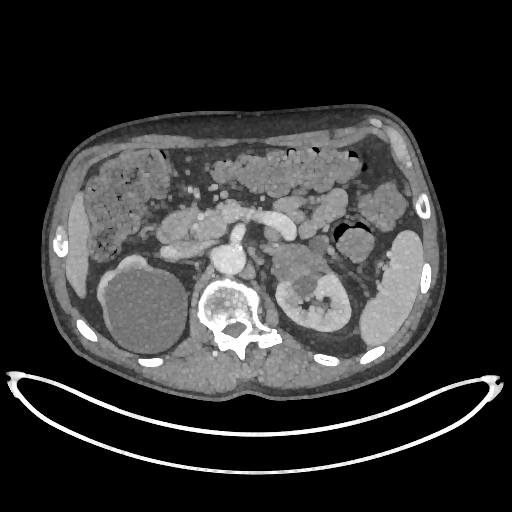Lesion: (271, 241, 327, 280)
